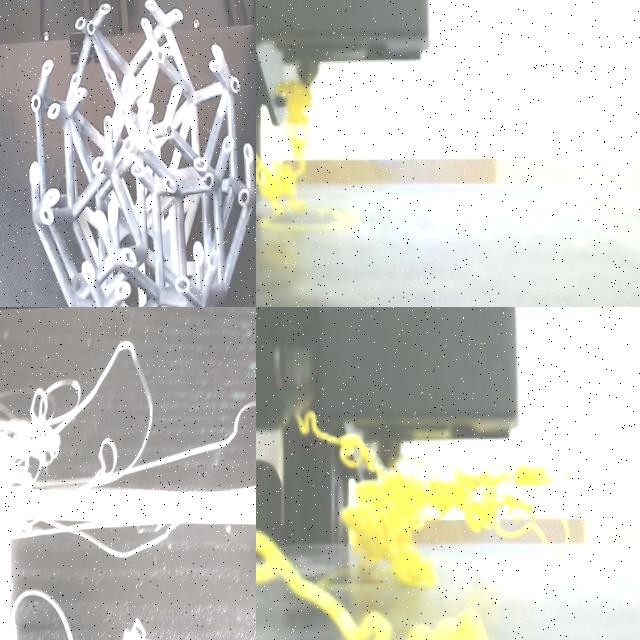spaghetti: (295, 410, 577, 585), (0, 326, 256, 487), (256, 529, 391, 640), (22, 585, 256, 640), (256, 81, 312, 227)
